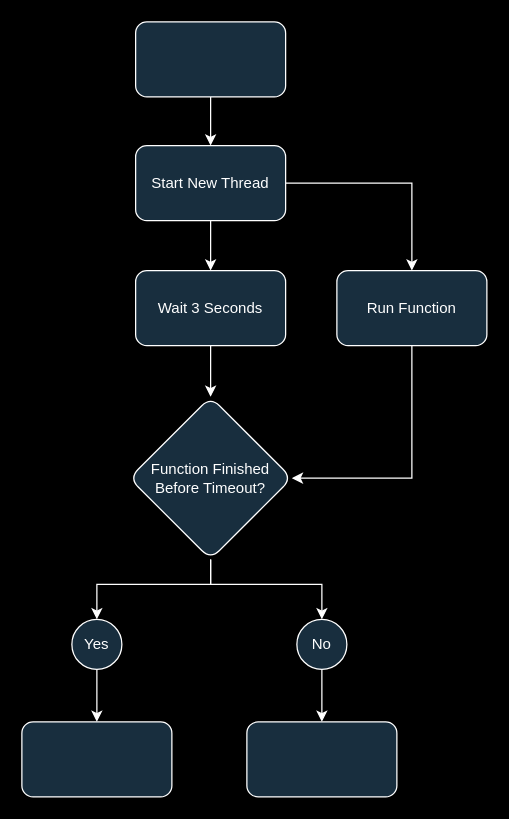
Image size: 509x819. Some labels were removed from this diagram. The shapes that lost their labels are listed below. From the top down, each one's box as (x1, y1, x2, y2) in pixels, then its label:
(134, 21, 286, 97): Generate Function
(21, 721, 172, 797): Add to Dataset
(246, 721, 397, 797): Set Aside for Manual Review
